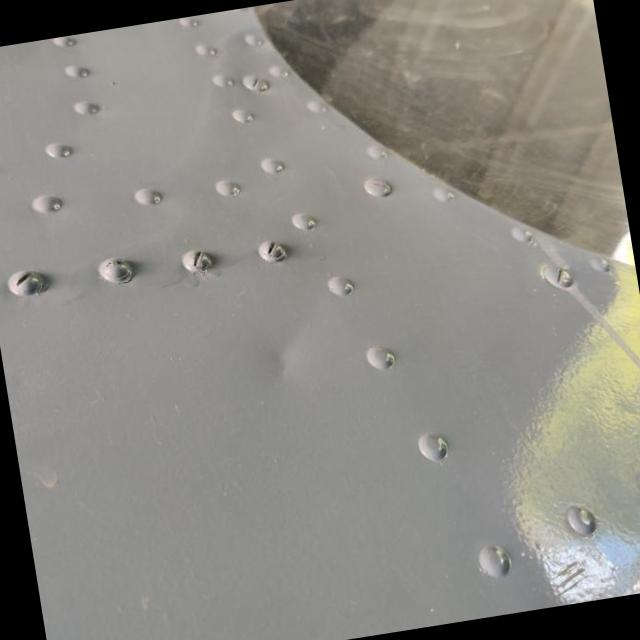Dent: (247, 328, 314, 397)
